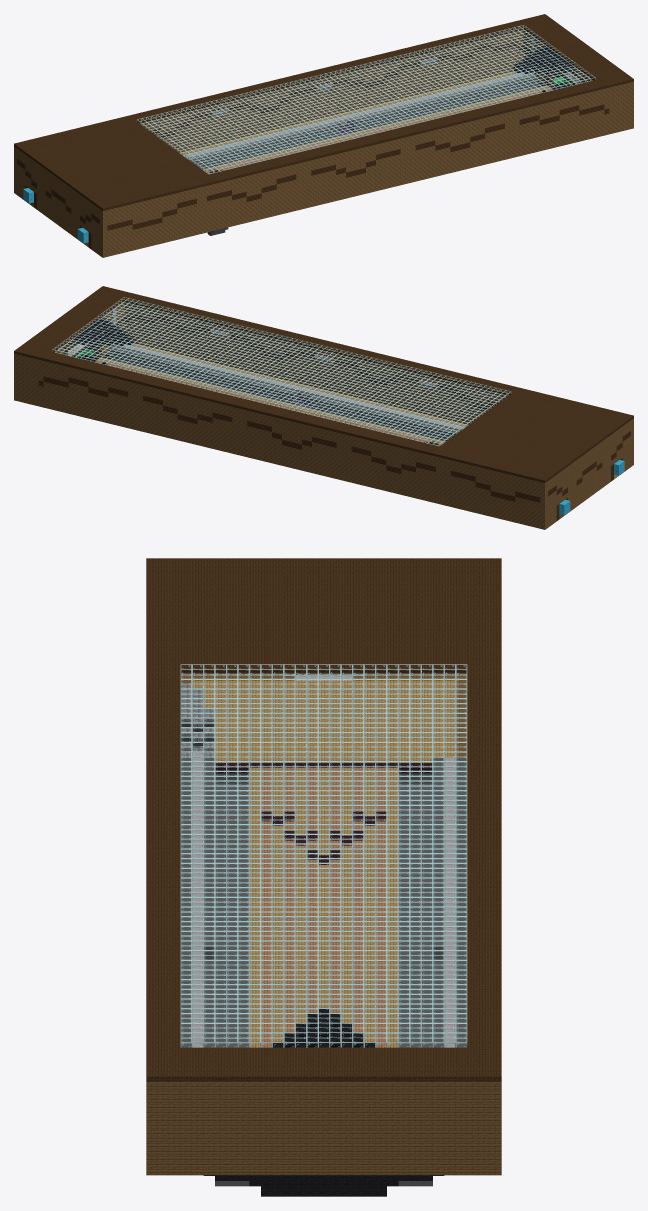
The model's file is minecraft.obj.
3 views of the same model, one above another, from view 1: azimuth 30°, elevation 25°; view 2: azimuth 150°, elevation 25°; view 3: azimuth 270°, elevation 25° (orthographic). The views are drawn at different scales.
Size of the model in its own units: 108 by 13 by 31.
